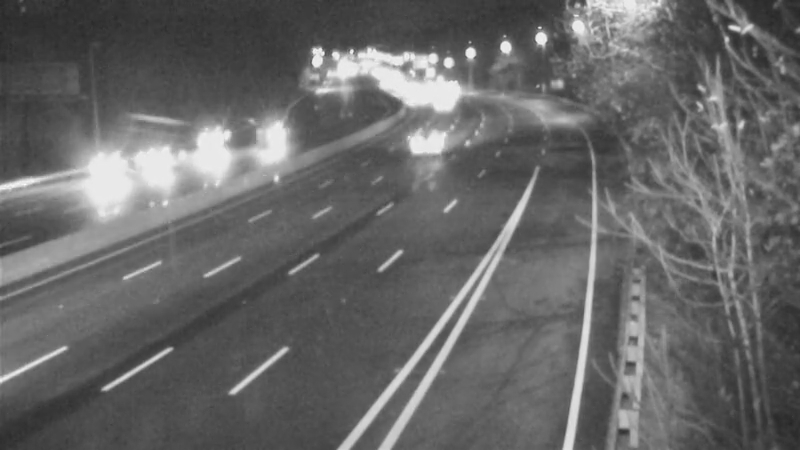vehicle: (57, 140, 137, 220), (108, 130, 188, 210), (160, 112, 240, 192), (409, 112, 459, 162), (246, 115, 296, 165)
